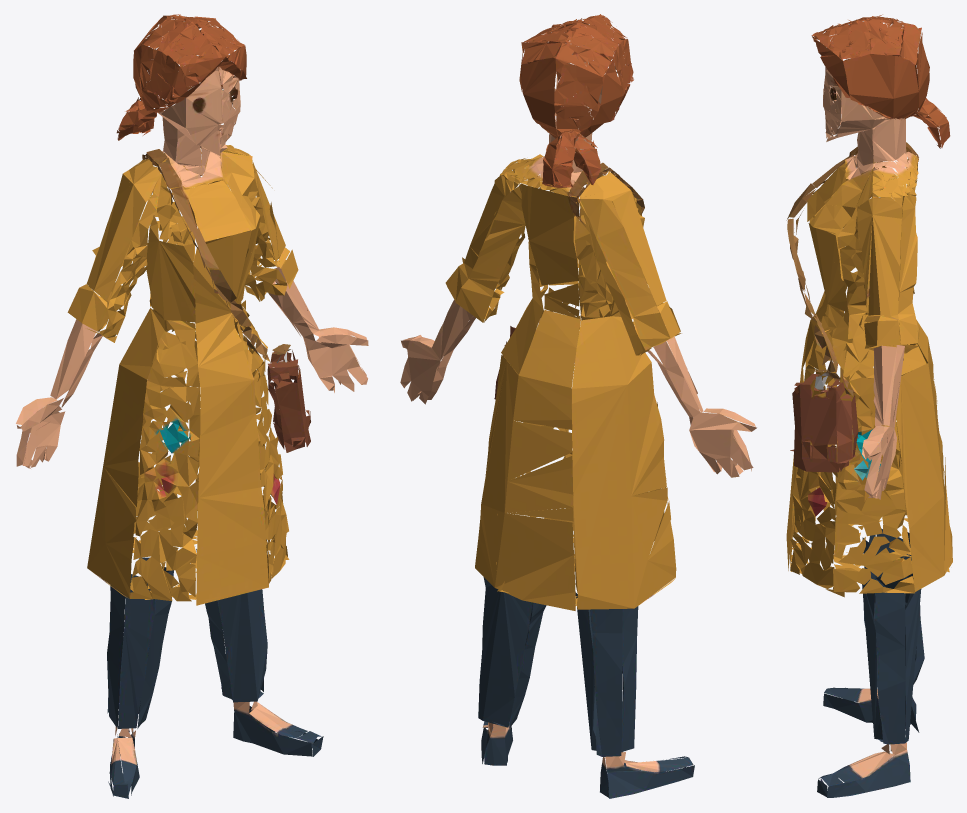
Rendered from habitant.glb.
The picture shows the model from 3 angles, left to right: view 1: azimuth 30°, elevation 25°; view 2: azimuth 150°, elevation 25°; view 3: azimuth 270°, elevation 25°; orthographic projection. The views are drawn at different scales.
Visible parts, largest first — view 1: world; view 2: world; view 3: world.
Part boxes in pixels (<box>): world: <box>16,14,368,798</box>; world: <box>400,14,756,798</box>; world: <box>786,14,952,797</box>.
Size of the model in its own units: 0.5011 by 1 by 0.2075.
Materials: 1 (1 with a texture image).
